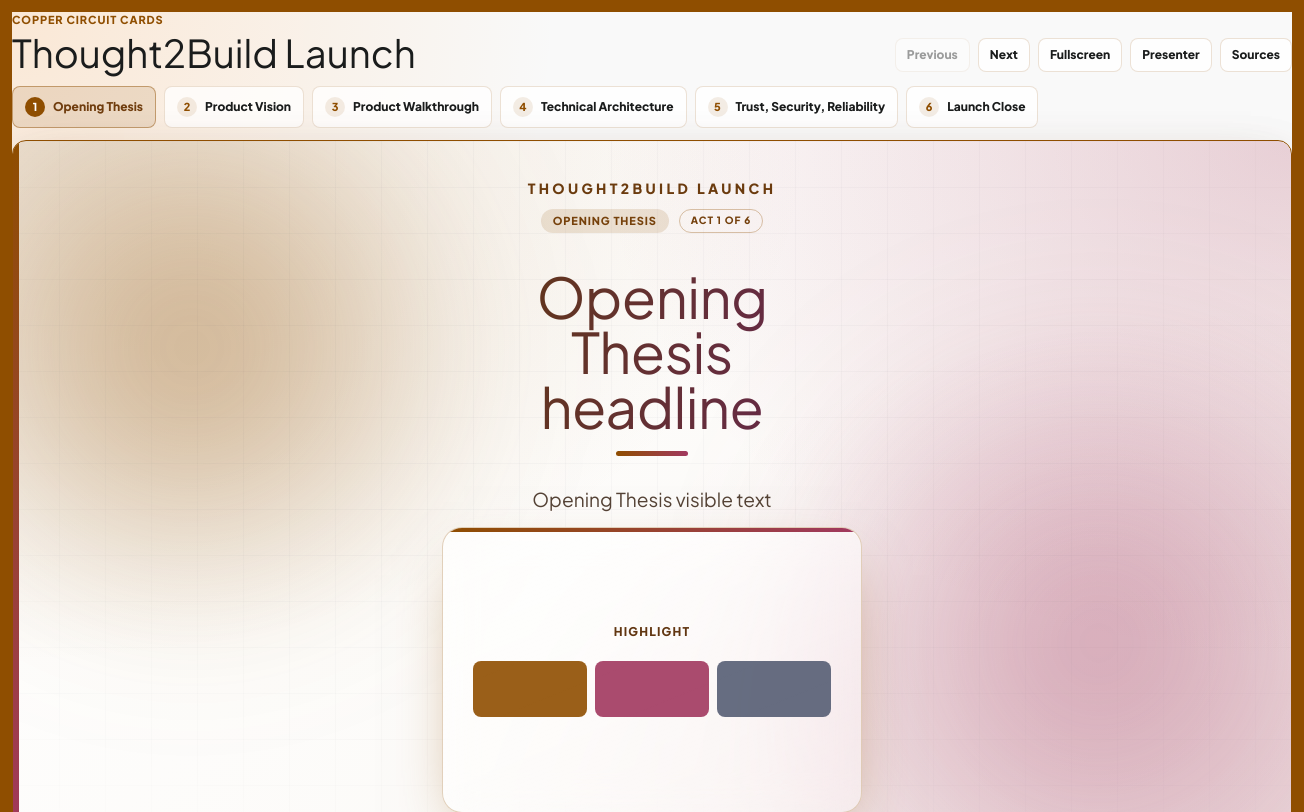
Test: StoryboardDeck › renders architecture reveal on the technical architecture act
The width and height of the screenshot is (1304, 812).
Click the tab "4 Technical Architecture" at (593, 107), box 500,86 -> 686,128
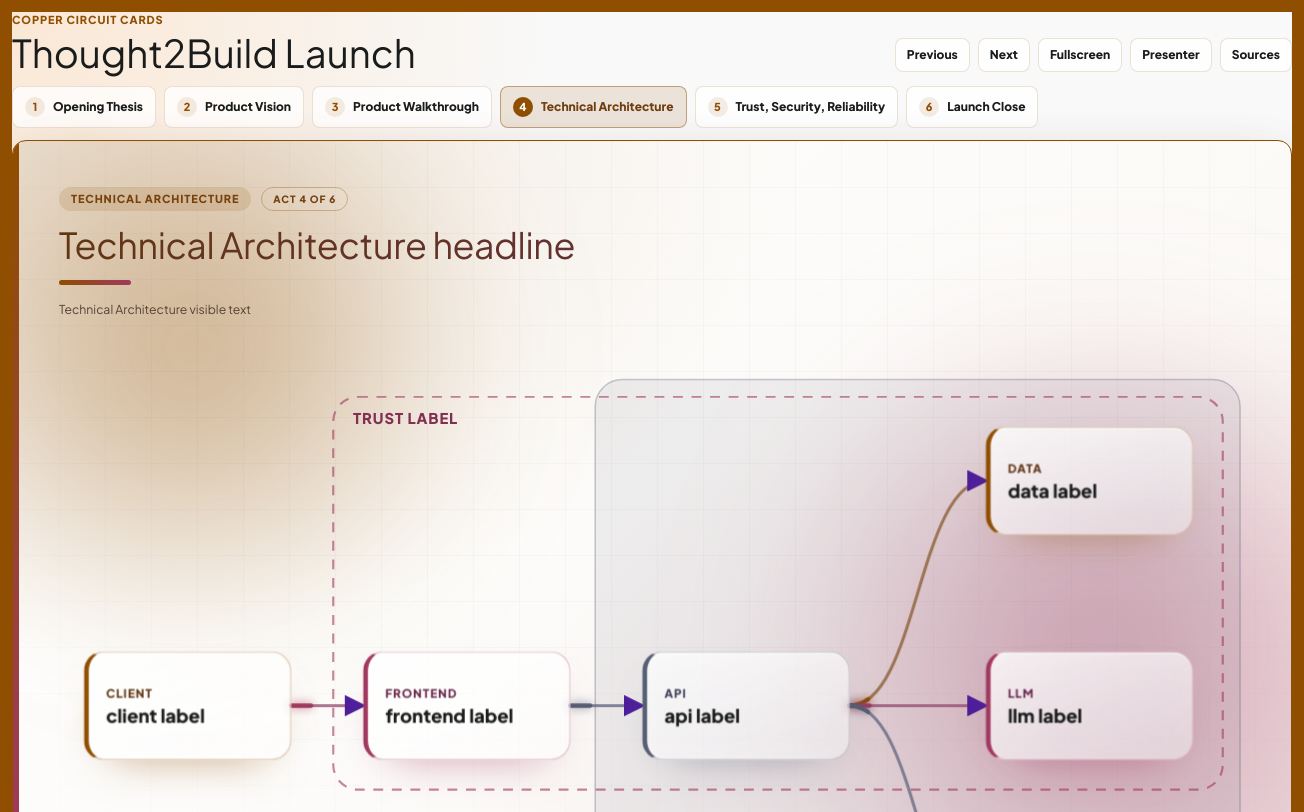
Now the heading "Technical Architecture headline" is shown, box 59,227 -> 1245,285
